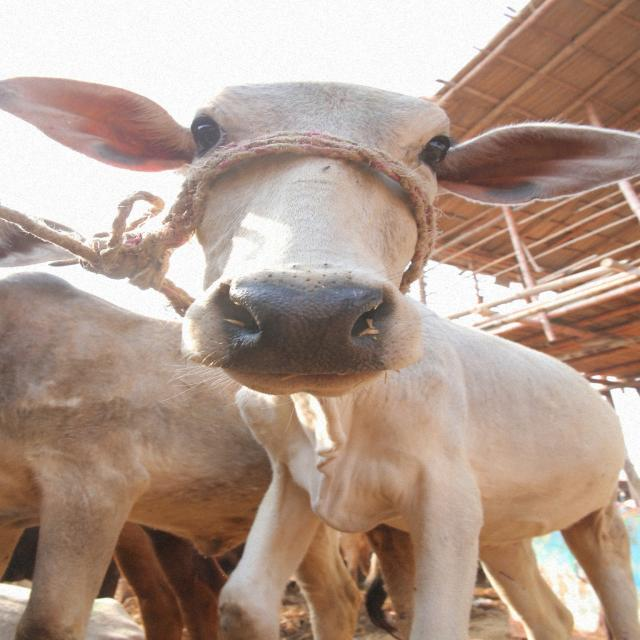muzzles: (208, 273, 407, 383)
